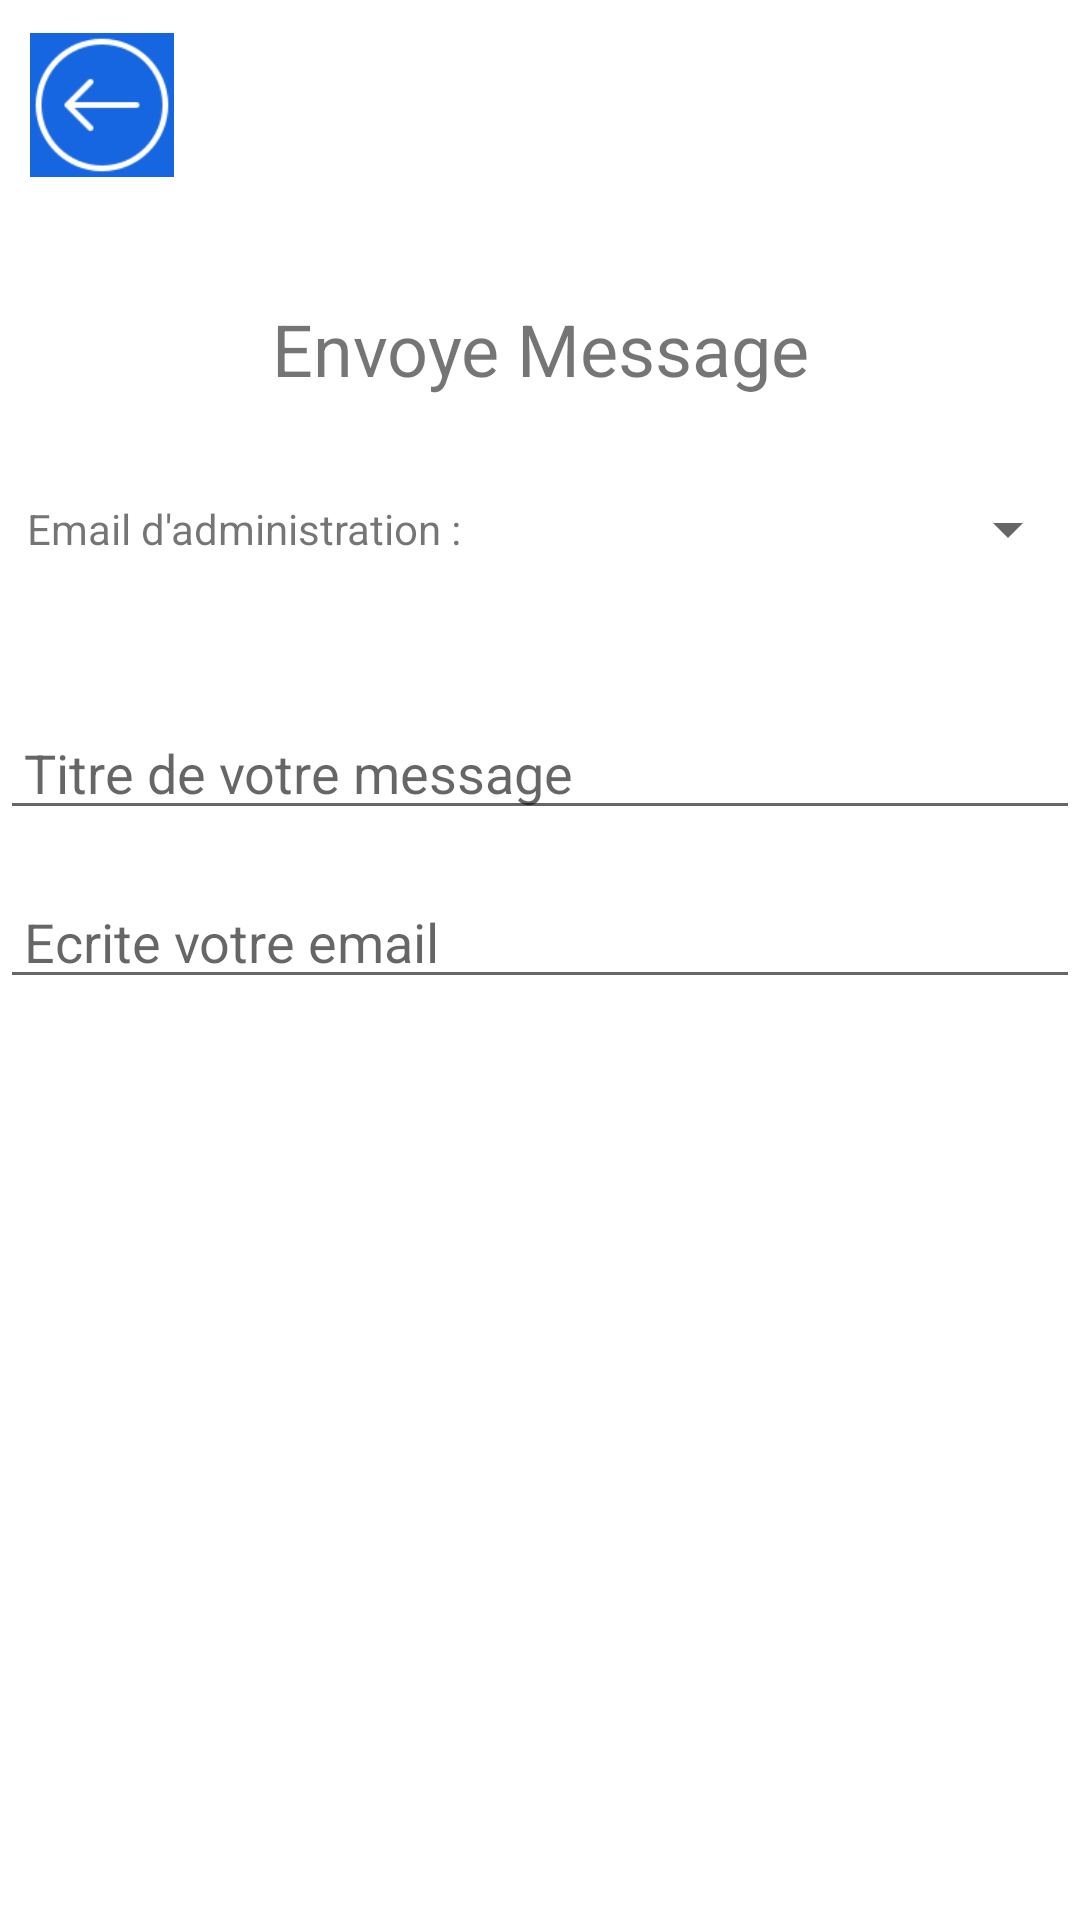

Icon bounding boxes for this 1080*1920 phone screenshot, format (x1, y1, x2, y2):
backk: (30, 33, 174, 177)
